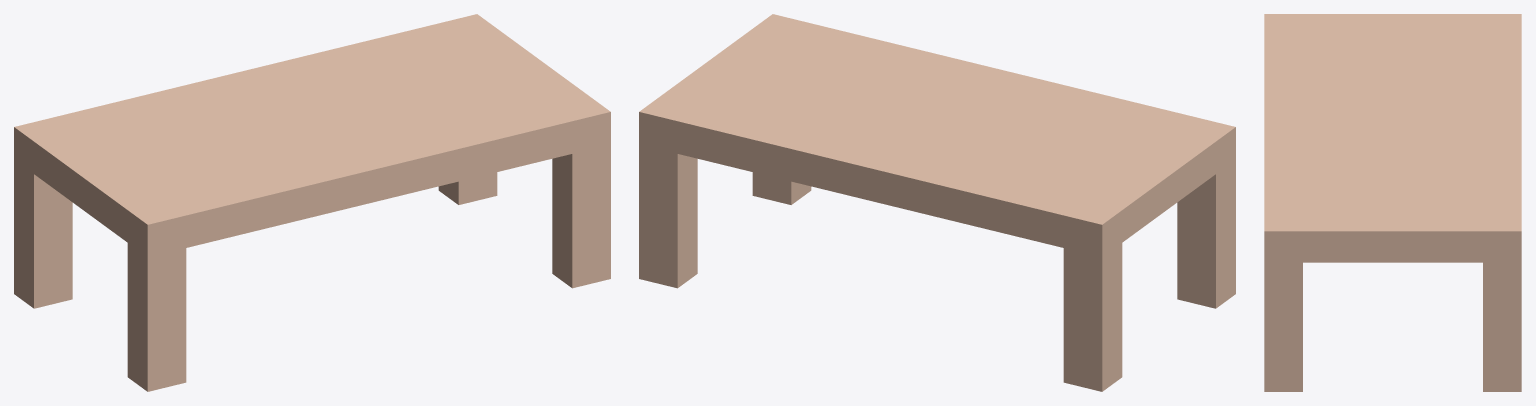
Rendered from Meja.fbx.
3 renders of one model, left to right at view 1: azimuth 30°, elevation 25°; view 2: azimuth 150°, elevation 25°; view 3: azimuth 270°, elevation 25°, orthographic. The views are drawn at different scales.
Visible parts, largest first — view 1: Meja; view 2: Meja; view 3: Meja.
Boxes of the visible parts, <box> form: Meja: <box>14,14,610,391</box>; Meja: <box>639,14,1235,391</box>; Meja: <box>1264,14,1521,391</box>.
Size of the model in its own units: 200 by 68.97 by 100.
